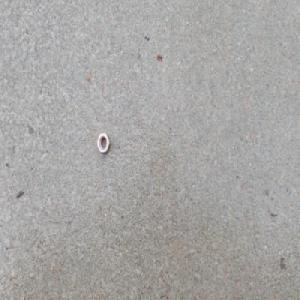Nut: (96, 132, 109, 154)
